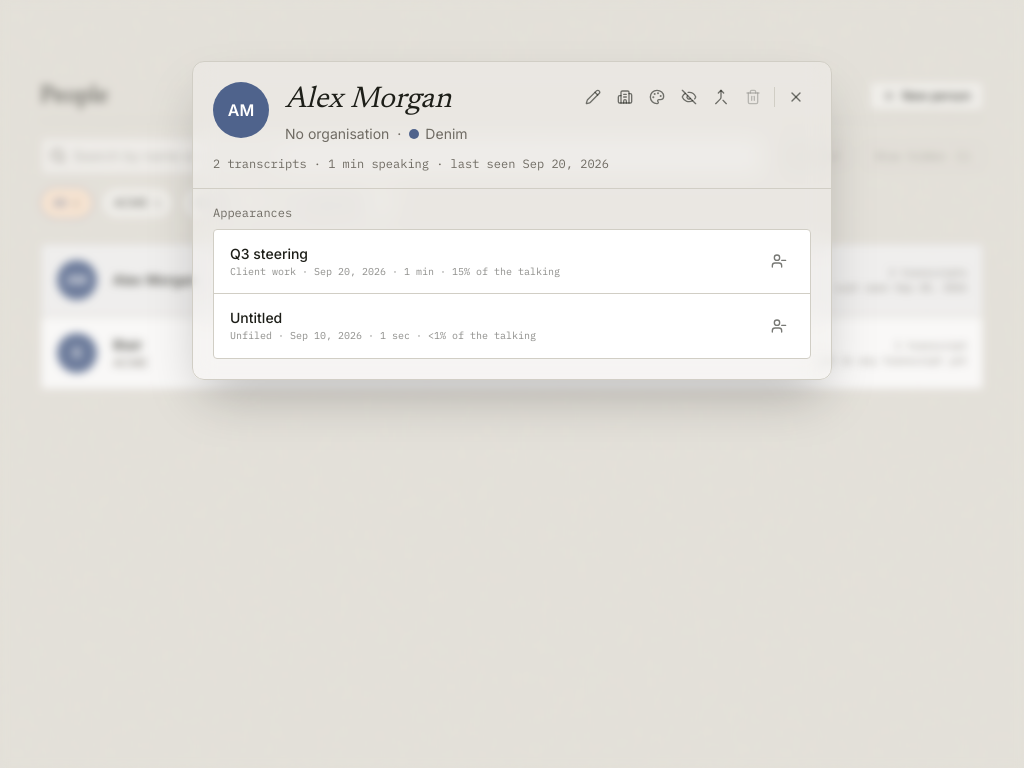
Test: every action is an icon with its name in a tooltip
Expected: the dialog is shown, [192,61,832,380]
Expected: the heading "Appearances" is shown, [213,205,292,220]
Hover over the button named "Change colour" at (657, 97), box [642,82,672,112]
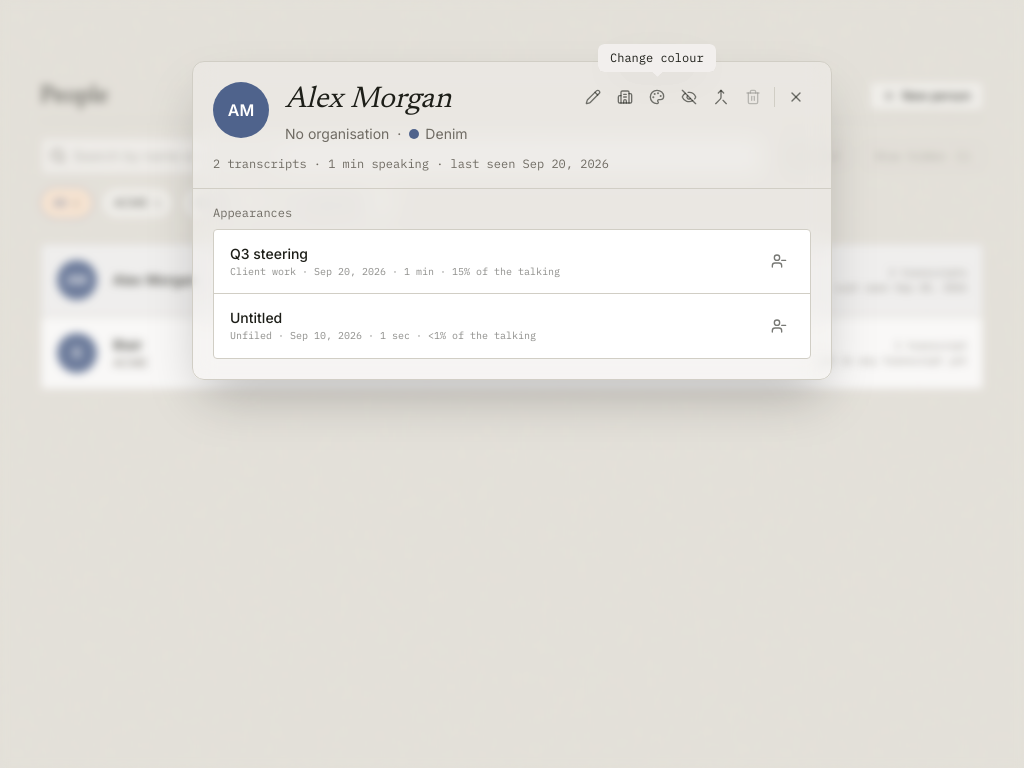
Expected: the tooltip reads "Change colour", [610,50,704,65]
